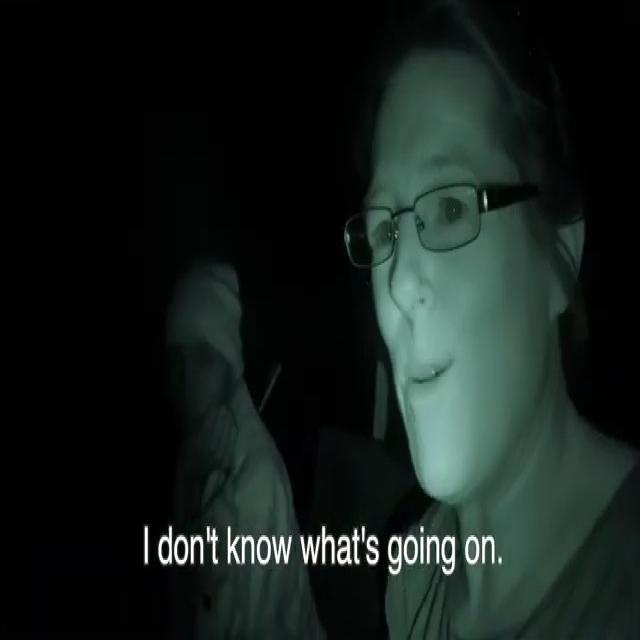human: (321, 7, 640, 640), (99, 227, 317, 637)
